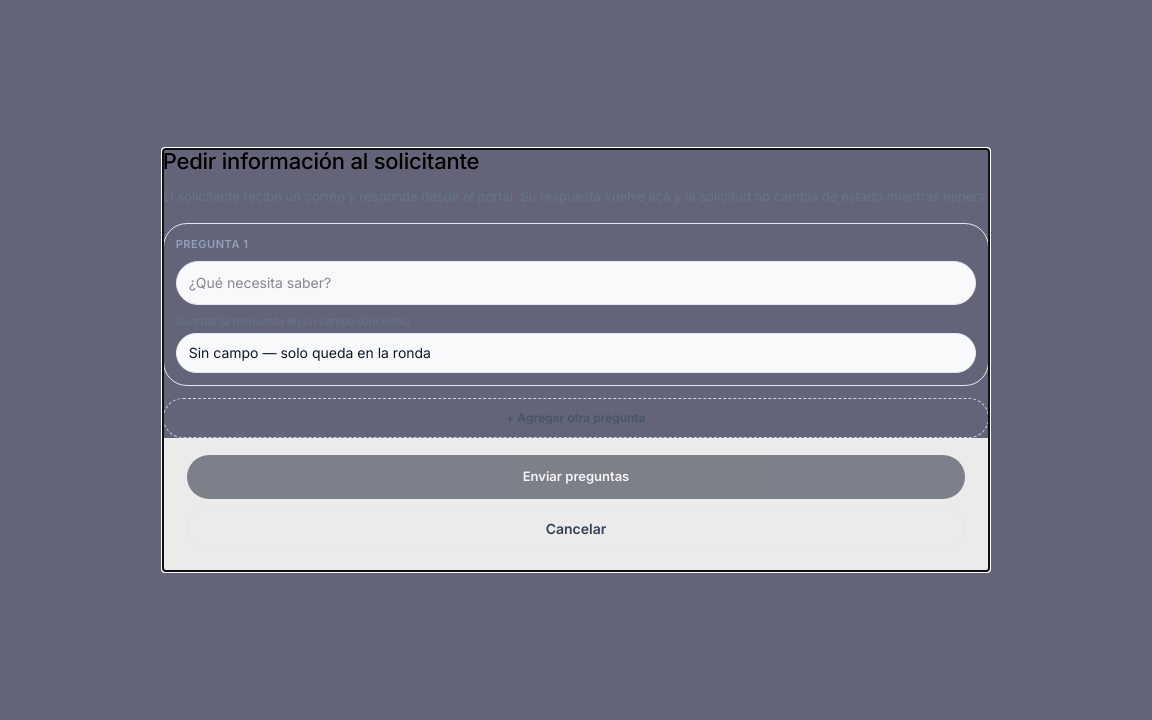
PedirInformacion › arranca con una pregunta y permite agregar más
This screenshot has width=1152, height=720.
Expected: the text "Pregunta 1" is shown, [176,236,248,253]
Click the button "+ Agregar otra pregunta" at {"x": 576, "y": 418}, box [163,398,989,438]
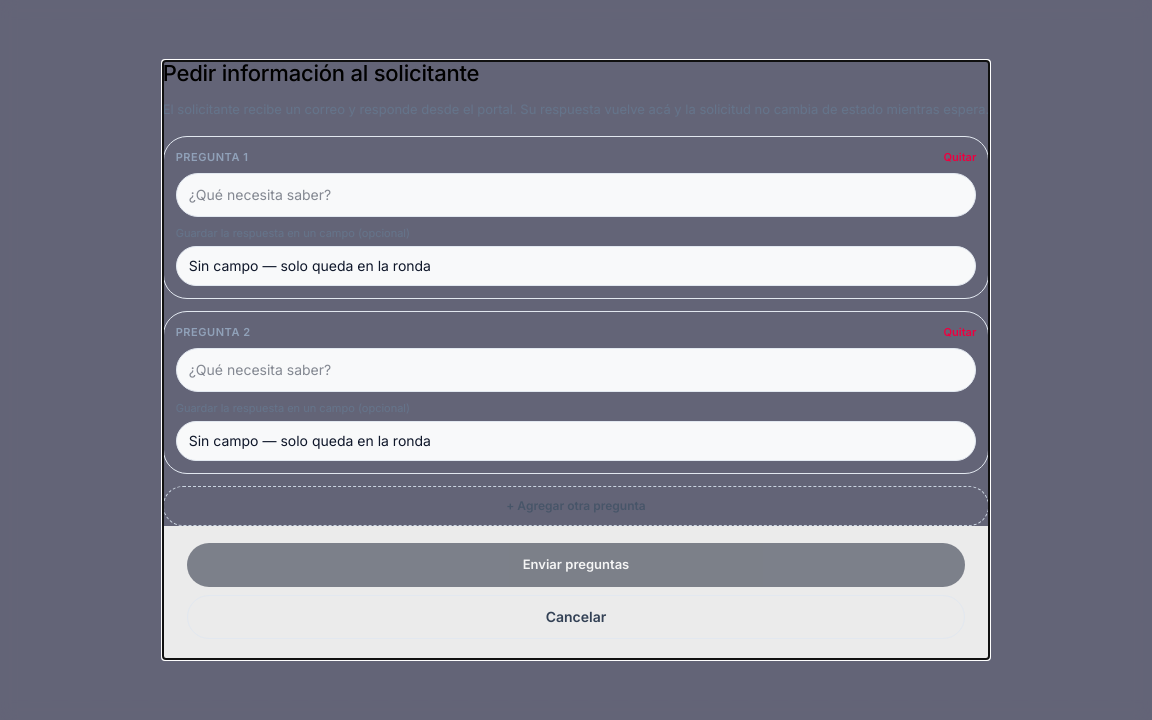
Expected: the text "Pregunta 2" is shown, [176,324,251,340]
